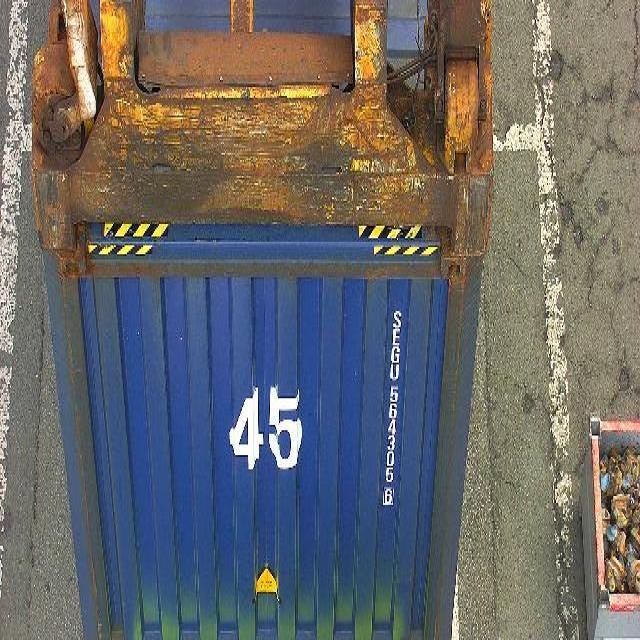container_number: (374, 297, 406, 515)
